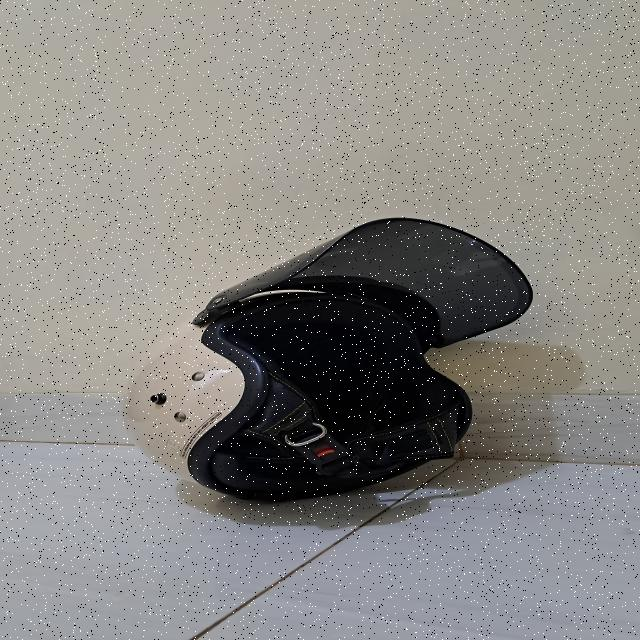Helmet: (123, 219, 534, 504)
